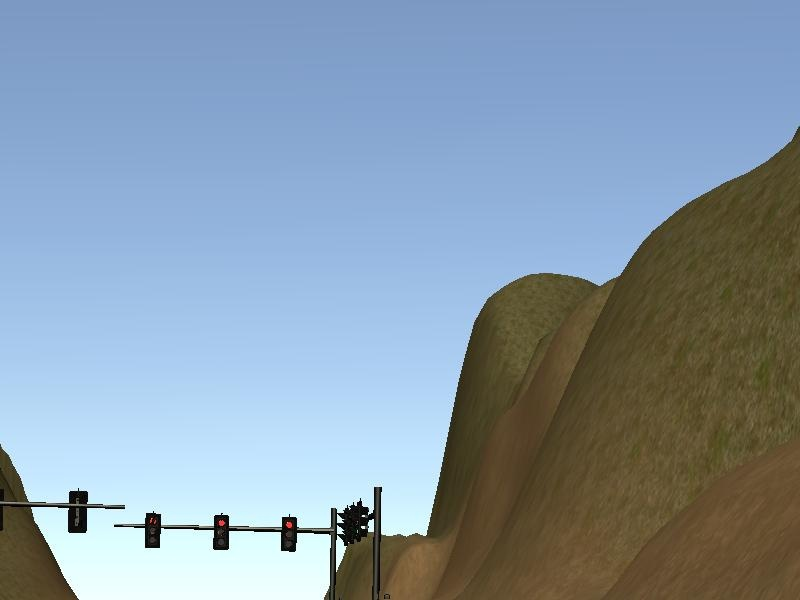traffic_light_red: (133, 511, 330, 552)
